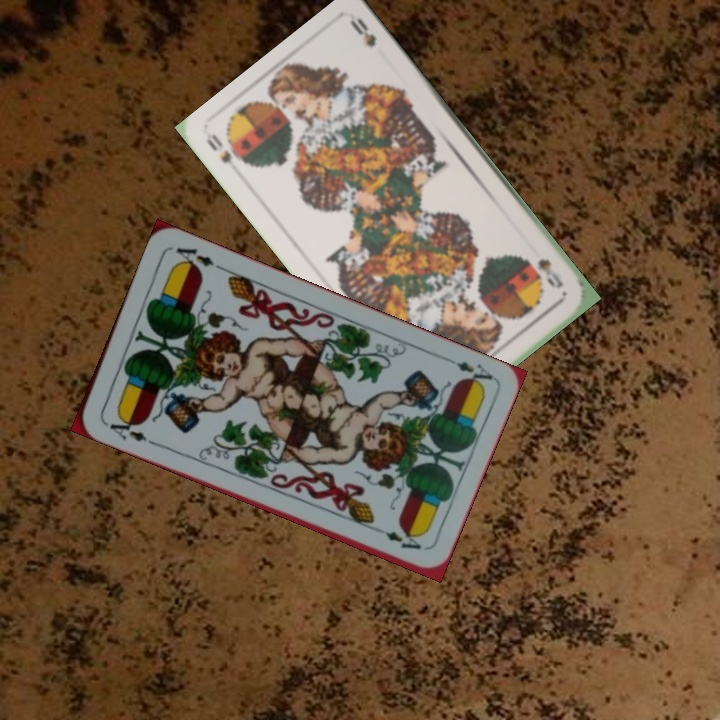EA: (440, 353, 496, 390), (100, 411, 156, 447)
SO: (202, 129, 235, 167), (533, 254, 566, 291)
